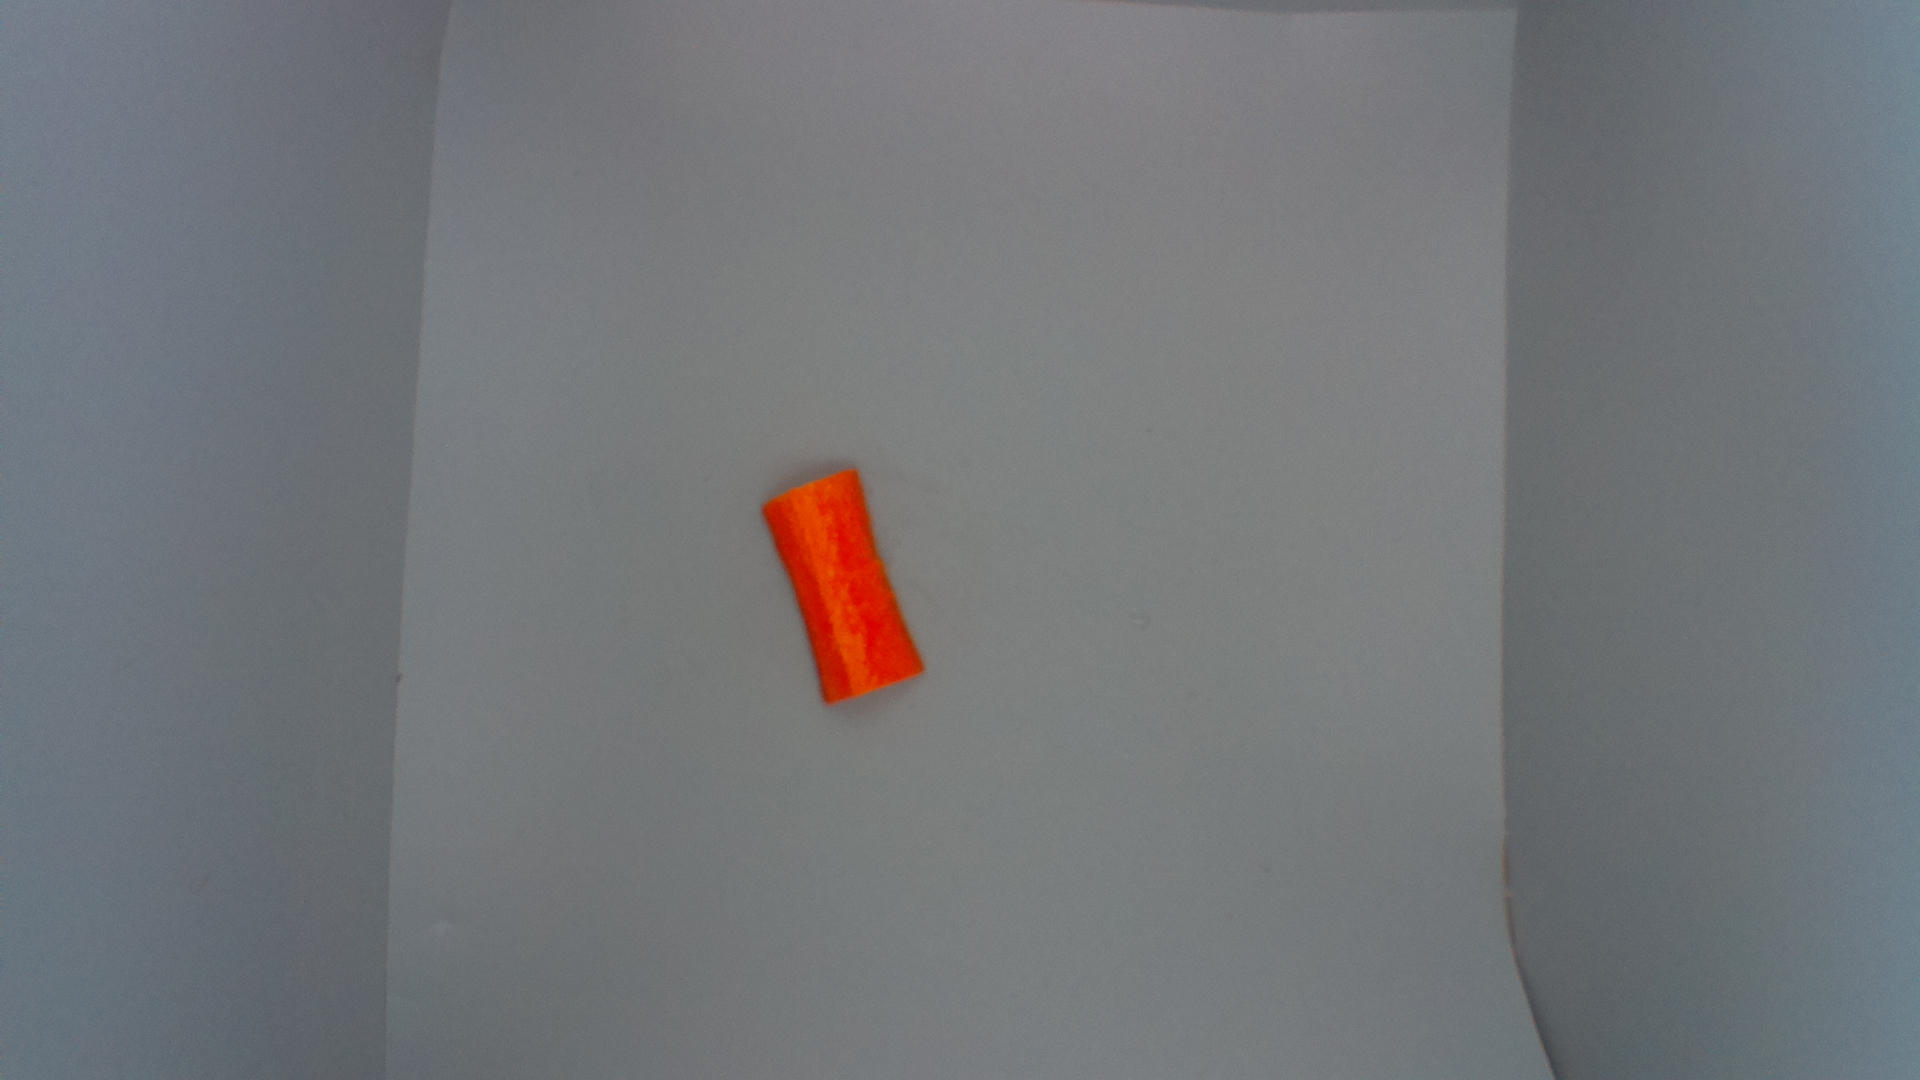carrot: (762, 462, 932, 712)
